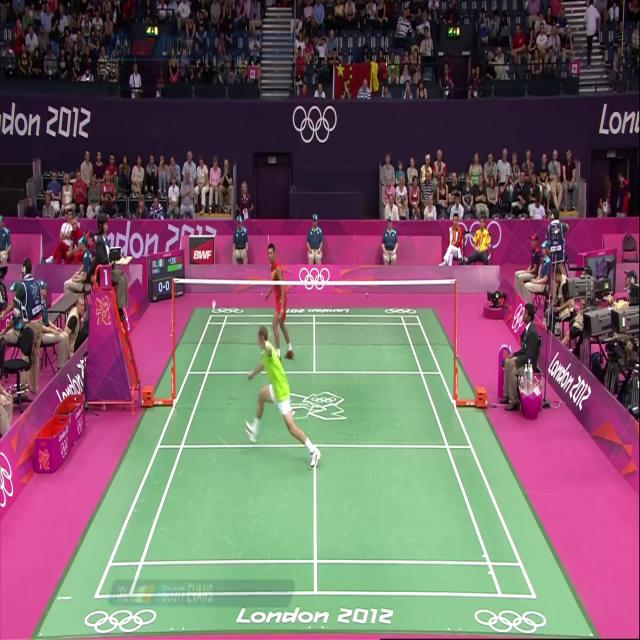Net: (172, 278, 461, 347)
Player1: (240, 321, 324, 480)
Player2: (260, 240, 297, 372)
Shuttlecock: (210, 294, 220, 311)
